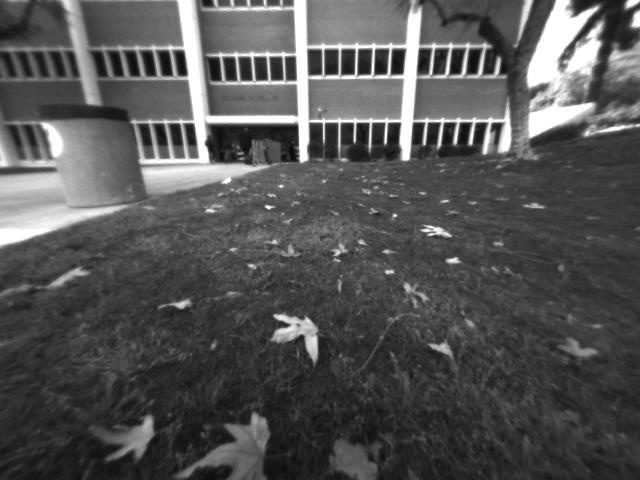trashcan: (29, 99, 159, 212)
